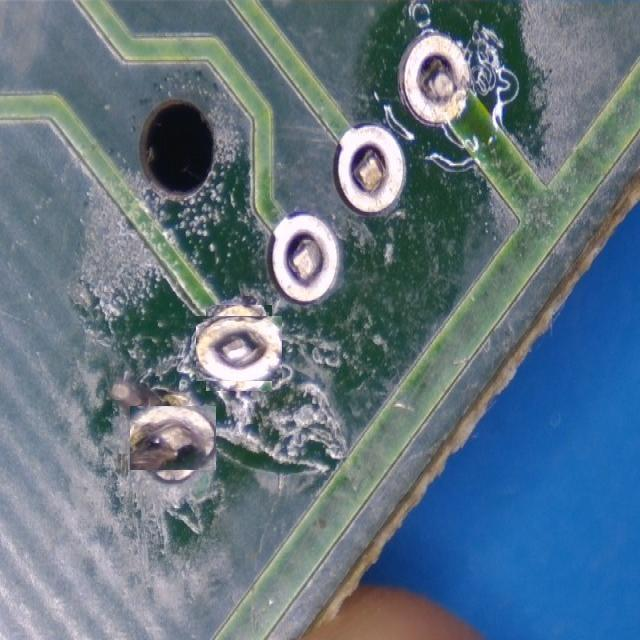Dry_joint: (196, 315, 282, 381), (131, 406, 215, 470)
